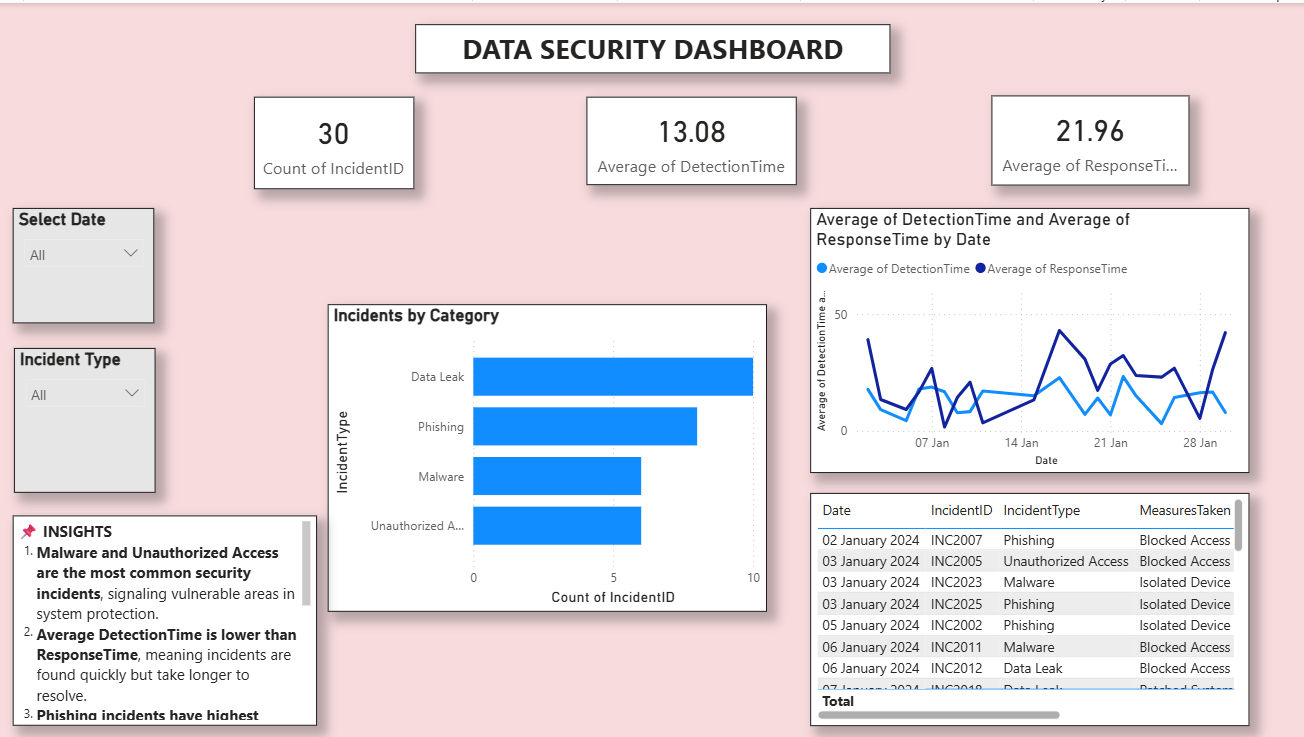

The page's visual inventory and layout, read from the dashboard file:
{"tool":"powerbi","page":{"name":"Page 4","canvas":[1280,720],"ordinal":3},"visuals":[{"type":"card","fields":{"Values":["CountNonNull(DataSecurity_small.IncidentID)"]},"box":[249.7,91.9,156.4,90.6],"z":0},{"type":"card","fields":{"Values":["Avg(DataSecurity_small.DetectionTime)"]},"box":[575,91.9,205.8,86.4],"z":1000},{"type":"card","fields":{"Values":["Avg(DataSecurity_small.ResponseTime)"]},"box":[971.5,90.6,193.5,87.8],"z":2000},{"type":"clusteredBarChart","title":"Incidents by Category","fields":{"Category":["DataSecurity_small.IncidentType"],"Y":["CountNonNull(DataSecurity_small.IncidentID)"]},"box":[321.1,295,429.5,300.5],"z":3000},{"type":"lineChart","fields":{"Category":["DataSecurity_small.Date"],"Y":["Avg(DataSecurity_small.DetectionTime)","Avg(DataSecurity_small.ResponseTime)"]},"box":[793.1,200.3,429.5,259.3],"z":4000},{"type":"tableEx","fields":{"Values":["DataSecurity_small.Date","DataSecurity_small.IncidentID","DataSecurity_small.IncidentType","DataSecurity_small.MeasuresTaken","Sum(DataSecurity_small.DetectionTime)","Sum(DataSecurity_small.ResponseTime)"]},"box":[793.1,478.9,429.5,227.8],"z":5000},{"type":"textbox","box":[407.5,20.6,465.2,48],"z":6000},{"type":"slicer","title":"Select Date","fields":{"Values":["DataSecurity_small.Date"]},"box":[13.7,200.3,138.6,112.5],"z":7000},{"type":"slicer","title":"Incident Type ","fields":{"Values":["DataSecurity_small.IncidentType"]},"box":[15.1,337.6,138.6,141.3],"z":8000},{"type":"textbox","box":[13.7,500.9,297.8,205.8],"z":9000}]}

Visuals, with their boxes in screenshot pixels (x1, y1, x2, y2), scaled from the page's 1280x720 canvas onto the 1304x737 screenshot:
card - CountNonNull(DataSecurity_small.IncidentID): l=254, t=94, r=414, b=187
card - Avg(DataSecurity_small.DetectionTime): l=586, t=94, r=795, b=183
card - Avg(DataSecurity_small.ResponseTime): l=990, t=93, r=1187, b=183
"Incidents by Category" clusteredBarChart: l=327, t=302, r=765, b=610
lineChart - DataSecurity_small.Date x Avg(DataSecurity_small.DetectionTime): l=808, t=205, r=1246, b=470
tableEx - DataSecurity_small.Date x DataSecurity_small.IncidentID: l=808, t=490, r=1246, b=723
textbox: l=415, t=21, r=889, b=70
"Select Date" slicer: l=14, t=205, r=155, b=320
"Incident Type " slicer: l=15, t=346, r=157, b=490
textbox: l=14, t=513, r=317, b=723
